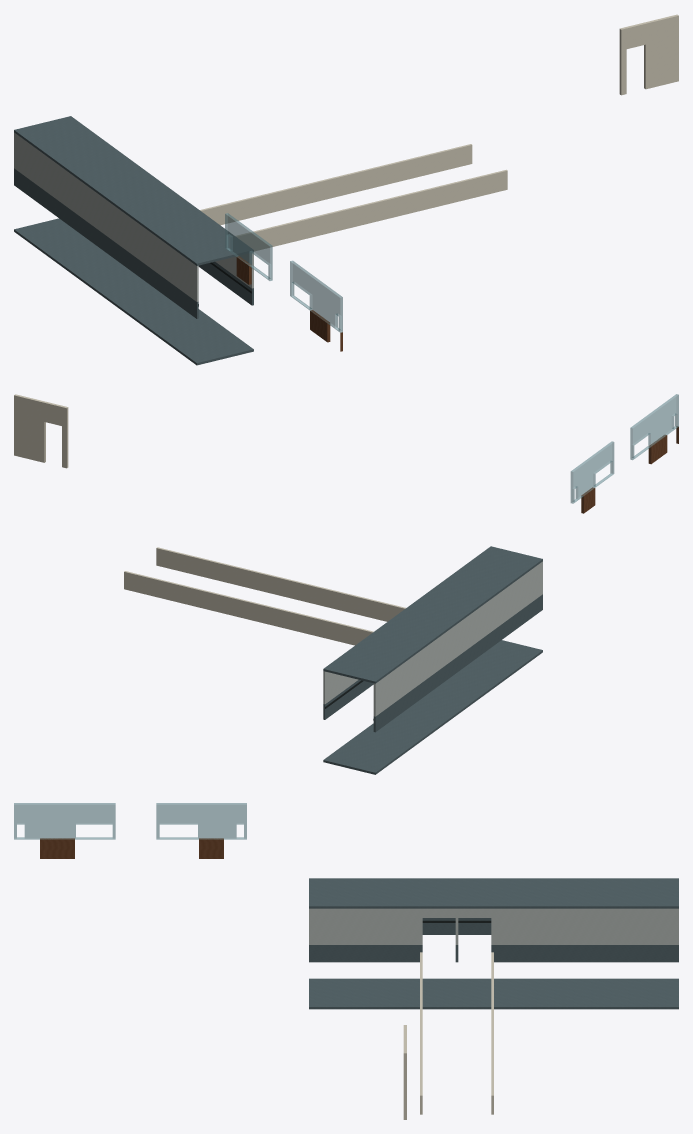
Rendered from D04_BOUNDED_PHYSICAL_CUTS_r005.glb.
The picture shows the model from 3 angles, top to bottom: view 1: azimuth 30°, elevation 25°; view 2: azimuth 150°, elevation 25°; view 3: azimuth 270°, elevation 25°; orthographic projection. The views are drawn at different scales.
Parts seen in each view (by area): view 1: D04PC_Successor_HOME_BATCH_007_ASTRAEA_staff_bluegrey_paint, D04PC_Successor_HOME_BATCH_174_ASTRAEA_staff_white_paint, D04PC_Successor_D04SA_ServiceLaneScreen_0, D04PC_Successor_D04SA_ServiceLaneScreen_2, D04PC_Successor_D04HC3_east_End_0, D04PC_Successor_D04H928_GardenGlass, D04PC_Successor_D04H952_GardenGlass; view 2: D04PC_Successor_HOME_BATCH_007_ASTRAEA_staff_bluegrey_paint, D04PC_Successor_HOME_BATCH_174_ASTRAEA_staff_white_paint, D04PC_Successor_D04SA_ServiceLaneScreen_2, D04PC_Successor_D04SA_ServiceLaneScreen_0, D04PC_Successor_D04HC3_east_End_0, D04PC_Successor_D04H928_GardenGlass, D04PC_Successor_D04H952_GardenGlass; view 3: D04PC_Successor_HOME_BATCH_007_ASTRAEA_staff_bluegrey_paint, D04PC_Successor_HOME_BATCH_174_ASTRAEA_staff_white_paint, D04PC_Successor_D04H928_GardenGlass, D04PC_Successor_D04H952_GardenGlass, D04PC_Successor_D04H928_GardenDado, D04PC_Successor_D04H952_GardenDado, D04PC_Successor_D04SA_ServiceLaneScreen_0, D04PC_Successor_D04SA_ServiceLaneScreen_2.
Part boxes in pixels (bbox=[...]): D04PC_Successor_HOME_BATCH_007_ASTRAEA_staff_bluegrey_paint: bbox=[14, 116, 253, 365]; D04PC_Successor_HOME_BATCH_174_ASTRAEA_staff_white_paint: bbox=[14, 132, 253, 301]; D04PC_Successor_D04SA_ServiceLaneScreen_0: bbox=[200, 144, 472, 225]; D04PC_Successor_D04SA_ServiceLaneScreen_2: bbox=[235, 169, 507, 251]; D04PC_Successor_D04HC3_east_End_0: bbox=[619, 14, 678, 95]; D04PC_Successor_D04H928_GardenGlass: bbox=[290, 260, 342, 332]; D04PC_Successor_D04H952_GardenGlass: bbox=[225, 213, 272, 280]; D04PC_Successor_HOME_BATCH_007_ASTRAEA_staff_bluegrey_paint: bbox=[323, 546, 542, 774]; D04PC_Successor_HOME_BATCH_174_ASTRAEA_staff_white_paint: bbox=[323, 561, 542, 716]; D04PC_Successor_D04SA_ServiceLaneScreen_2: bbox=[156, 547, 405, 621]; D04PC_Successor_D04SA_ServiceLaneScreen_0: bbox=[124, 571, 373, 645]; D04PC_Successor_D04HC3_east_End_0: bbox=[14, 394, 68, 468]; D04PC_Successor_D04H928_GardenGlass: bbox=[630, 394, 678, 459]; D04PC_Successor_D04H952_GardenGlass: bbox=[570, 441, 614, 503]; D04PC_Successor_HOME_BATCH_007_ASTRAEA_staff_bluegrey_paint: bbox=[309, 878, 678, 1009]; D04PC_Successor_HOME_BATCH_174_ASTRAEA_staff_white_paint: bbox=[309, 908, 678, 944]; D04PC_Successor_D04H928_GardenGlass: bbox=[14, 803, 115, 839]; D04PC_Successor_D04H952_GardenGlass: bbox=[156, 803, 246, 839]; D04PC_Successor_D04H928_GardenDado: bbox=[40, 838, 74, 858]; D04PC_Successor_D04H952_GardenDado: bbox=[199, 838, 223, 858]; D04PC_Successor_D04SA_ServiceLaneScreen_0: bbox=[491, 952, 493, 1114]; D04PC_Successor_D04SA_ServiceLaneScreen_2: bbox=[420, 952, 422, 1114].
Bounding box in the file's own units: 33.55 × 11.26 × 35.95.
Materials: 9 (7 with a texture image).
